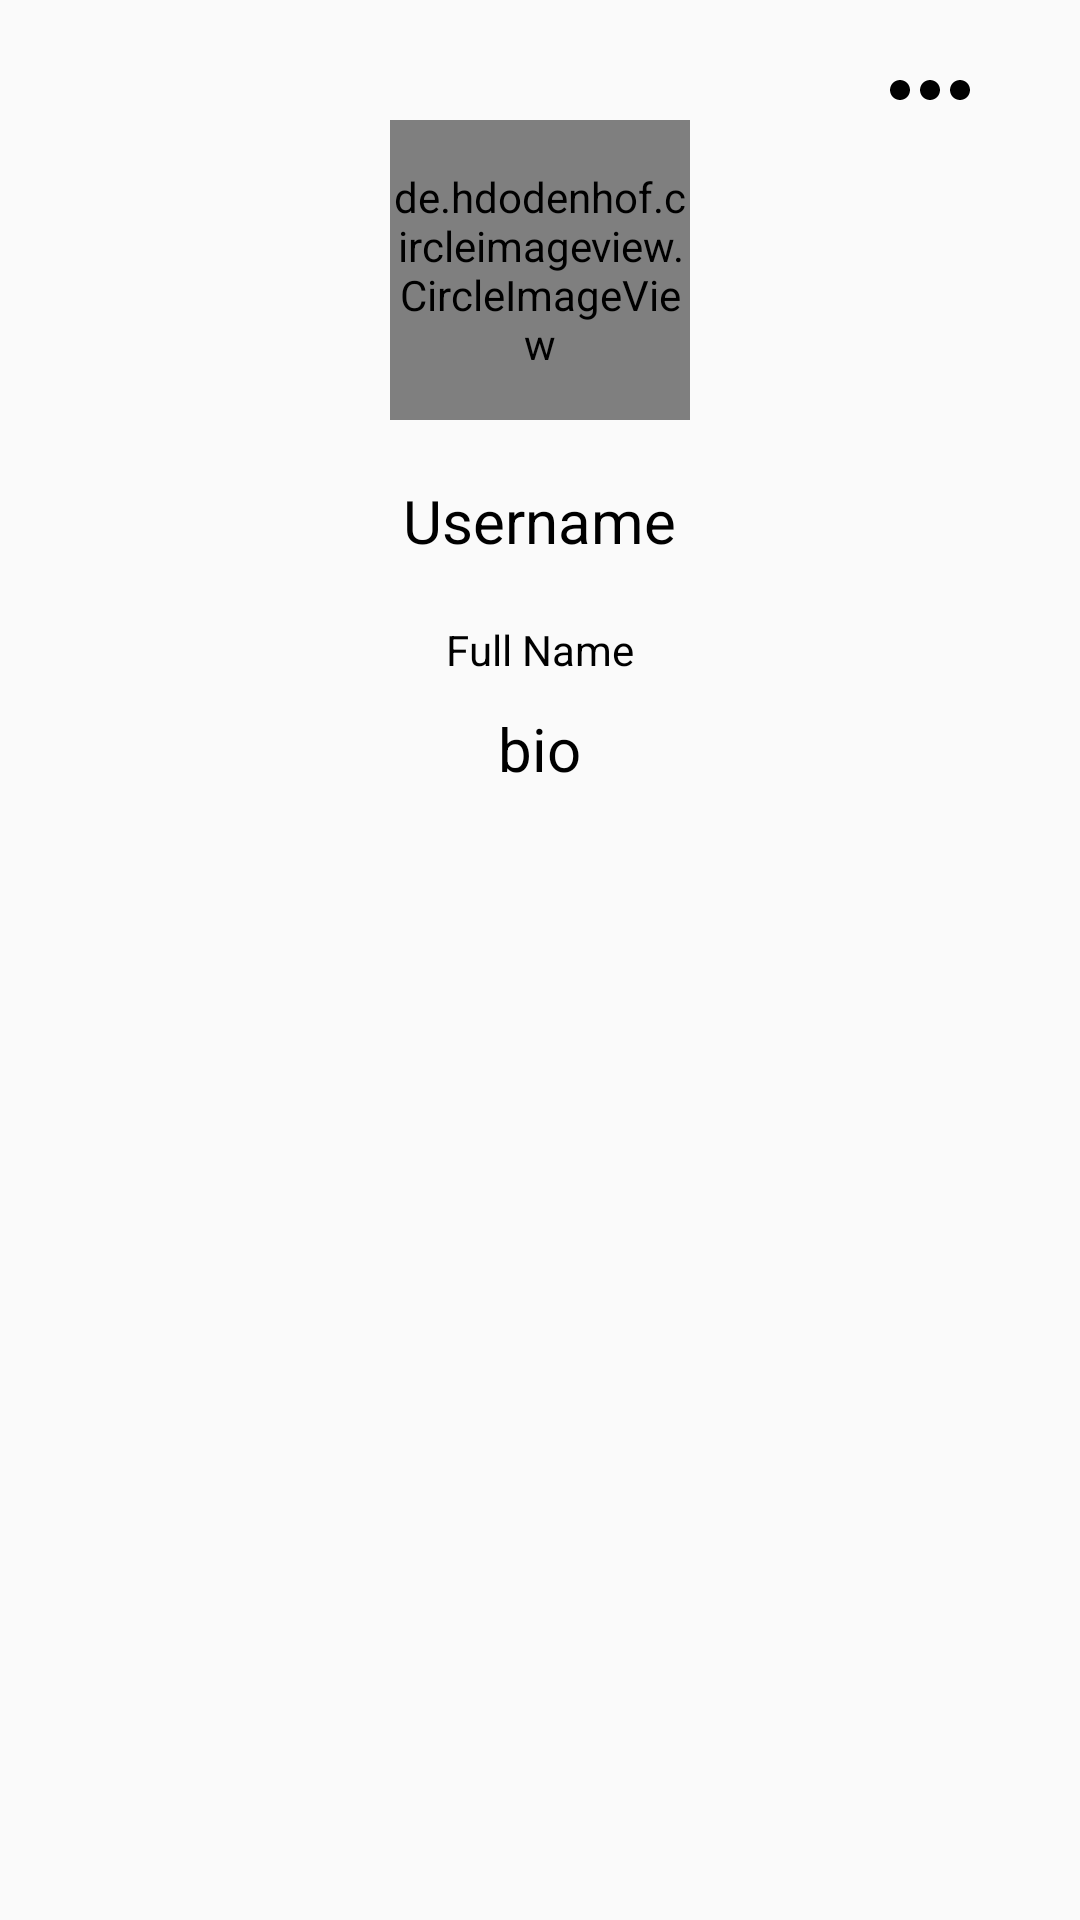

Screen size 1080*1920. Icon name, then its center in pixels as [x,y]:
more horizontal: [930,90]
